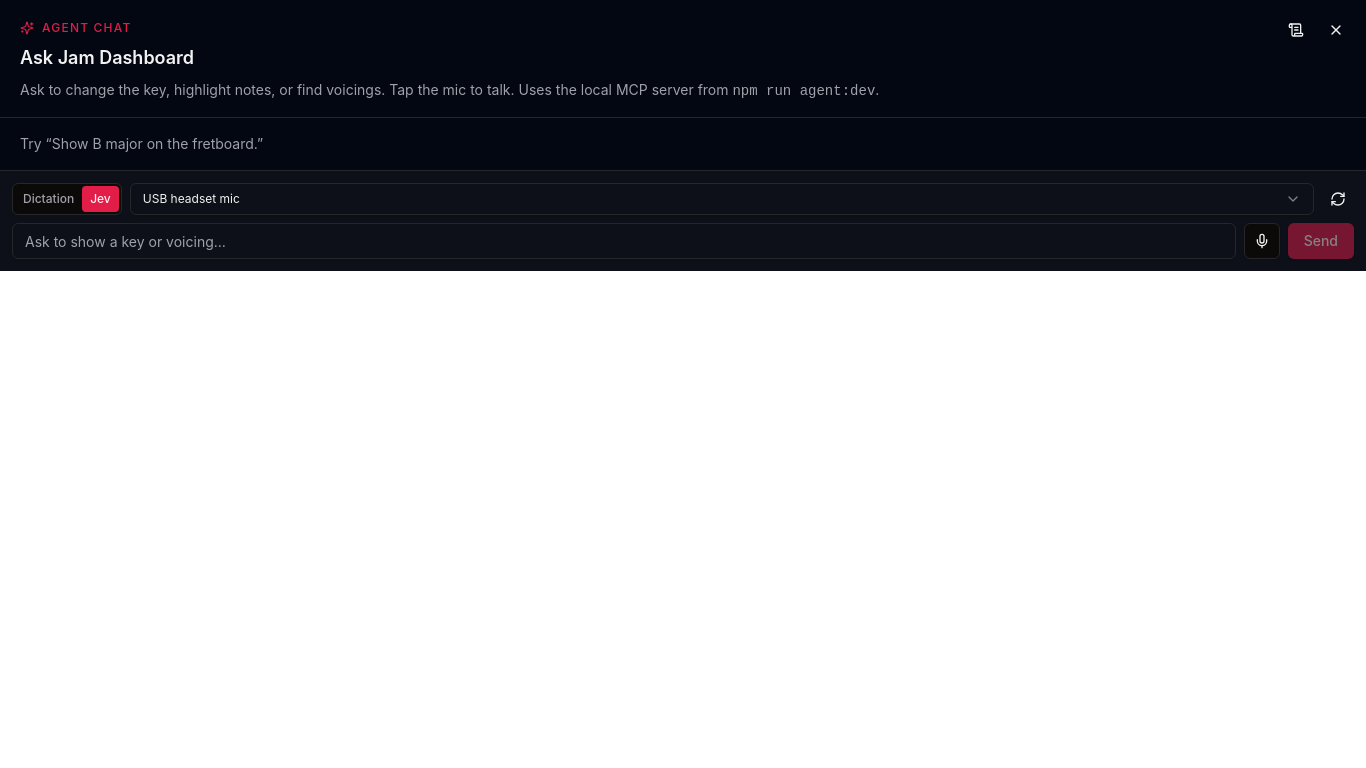
Jev mode › the transcript stays available after the session from the header
The width and height of the screenshot is (1366, 768).
Click the button named "Full transcript": (1296,30) [1278,12,1314,48]
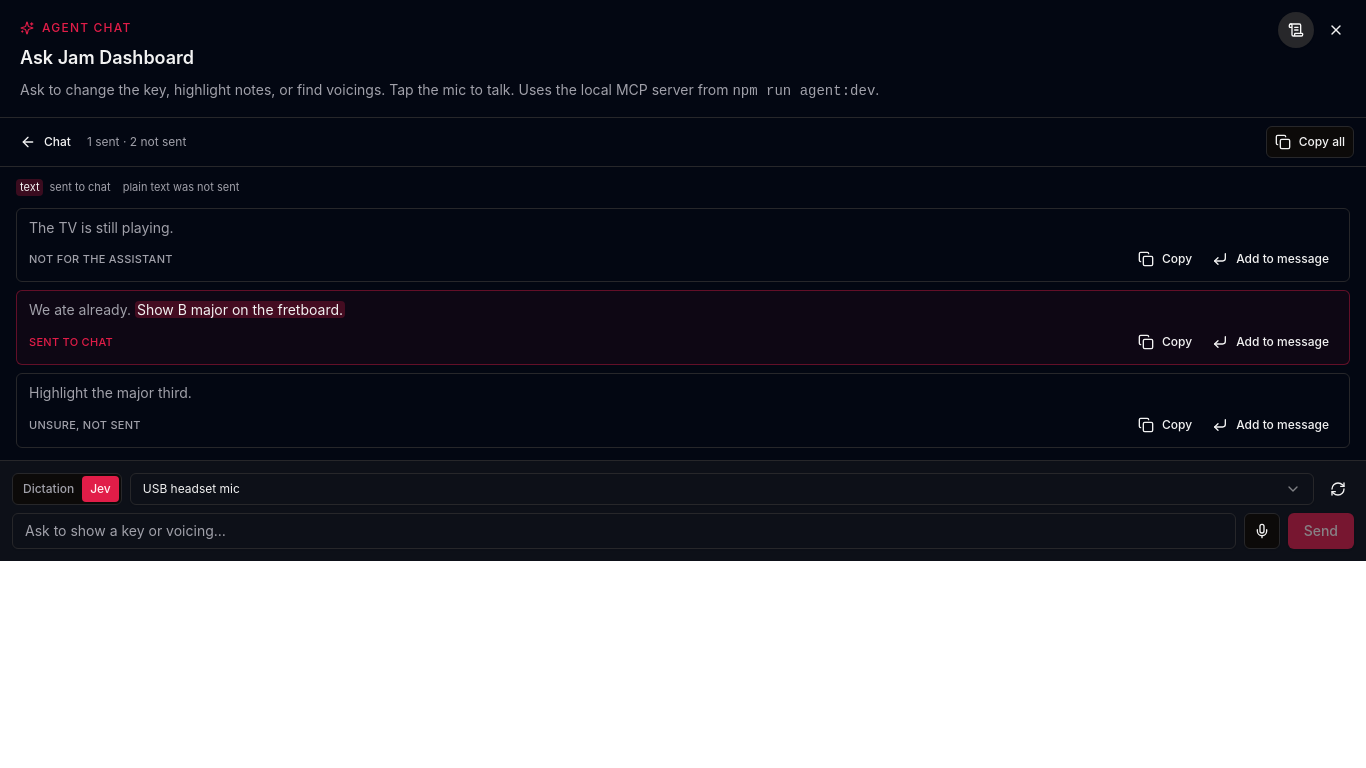
Now the list named "Transcribed speech" is shown, box [0,196,1365,460]
